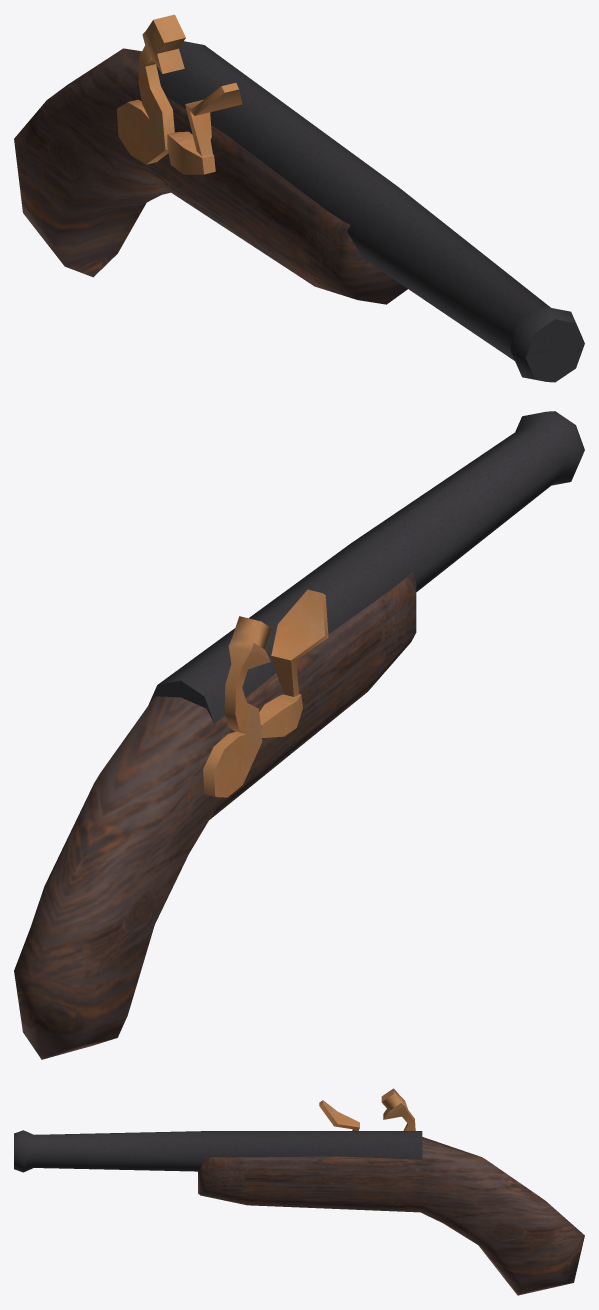
The picture shows the model from 3 angles, top to bottom: view 1: azimuth 30°, elevation 25°; view 2: azimuth 150°, elevation 25°; view 3: azimuth 270°, elevation 25°; orthographic projection. The views are drawn at different scales.
Parts seen in each view (by area): view 1: 1203_HandGun; view 2: 1203_HandGun; view 3: 1203_HandGun.
Part boxes in pixels (x1,y1,x2,y2): 1203_HandGun: [14, 14, 584, 382]; 1203_HandGun: [14, 411, 584, 1059]; 1203_HandGun: [14, 1088, 584, 1295].
Size of the model in its own units: 5.25 by 16.98 by 45.53.
1 material, 1 textured.
